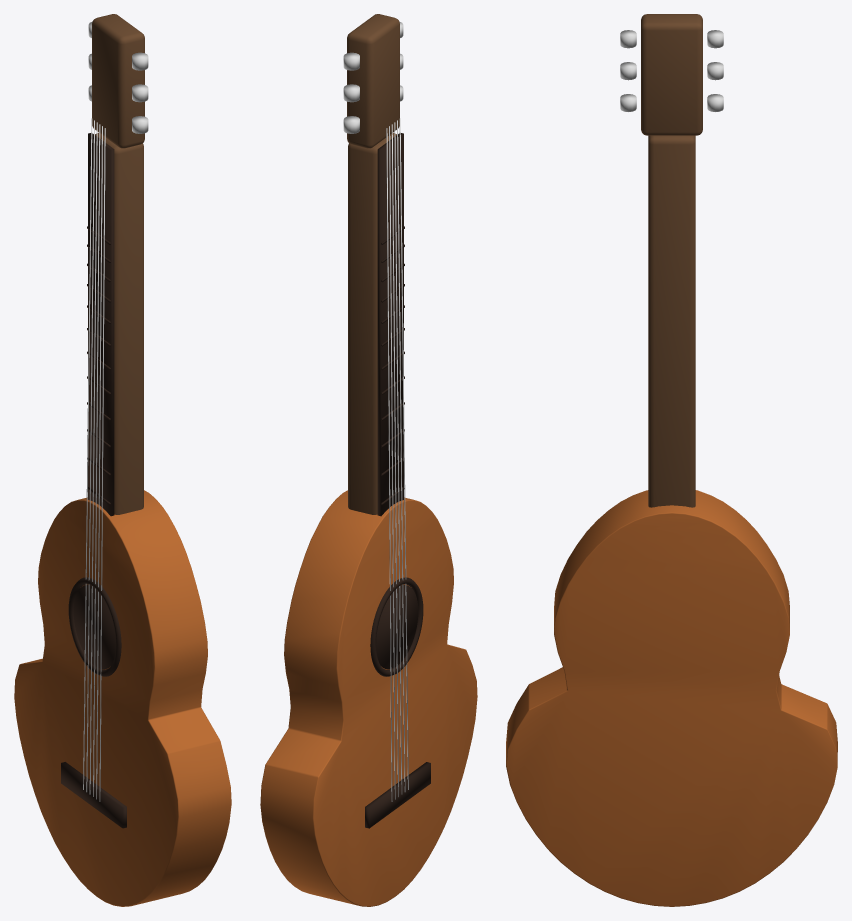
Rendered from living-guitar.glb.
3 views of the same model, side by side, from view 1: azimuth 30°, elevation 25°; view 2: azimuth 150°, elevation 25°; view 3: azimuth 270°, elevation 25° (orthographic).
Visible parts, largest first — view 1: Guitar__Body, Guitar__Neck, Guitar__Fretboard, Guitar__StringsPegs, Guitar__Details; view 2: Guitar__Body, Guitar__Neck, Guitar__Fretboard, Guitar__StringsPegs, Guitar__Details; view 3: Guitar__Body, Guitar__Neck, Guitar__StringsPegs.
Part boxes in pixels (<box>): Guitar__Body: <box>14,490,231,906</box>; Guitar__Neck: <box>92,14,144,514</box>; Guitar__Fretboard: <box>87,133,114,516</box>; Guitar__StringsPegs: <box>83,21,148,801</box>; Guitar__Details: <box>61,577,126,828</box>; Guitar__Body: <box>260,490,477,906</box>; Guitar__Neck: <box>347,14,399,514</box>; Guitar__Fretboard: <box>377,133,404,516</box>; Guitar__StringsPegs: <box>343,21,408,801</box>; Guitar__Details: <box>365,577,430,828</box>; Guitar__Body: <box>506,490,837,906</box>; Guitar__Neck: <box>641,14,702,507</box>; Guitar__StringsPegs: <box>620,30,723,111</box>.
Bounding box in the file's own units: 6.57 × 93.01 × 32.01.
